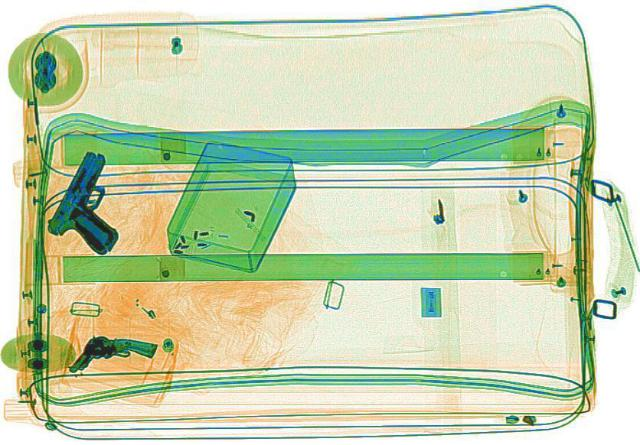Gun: (35, 147, 145, 254), (63, 330, 159, 380)
